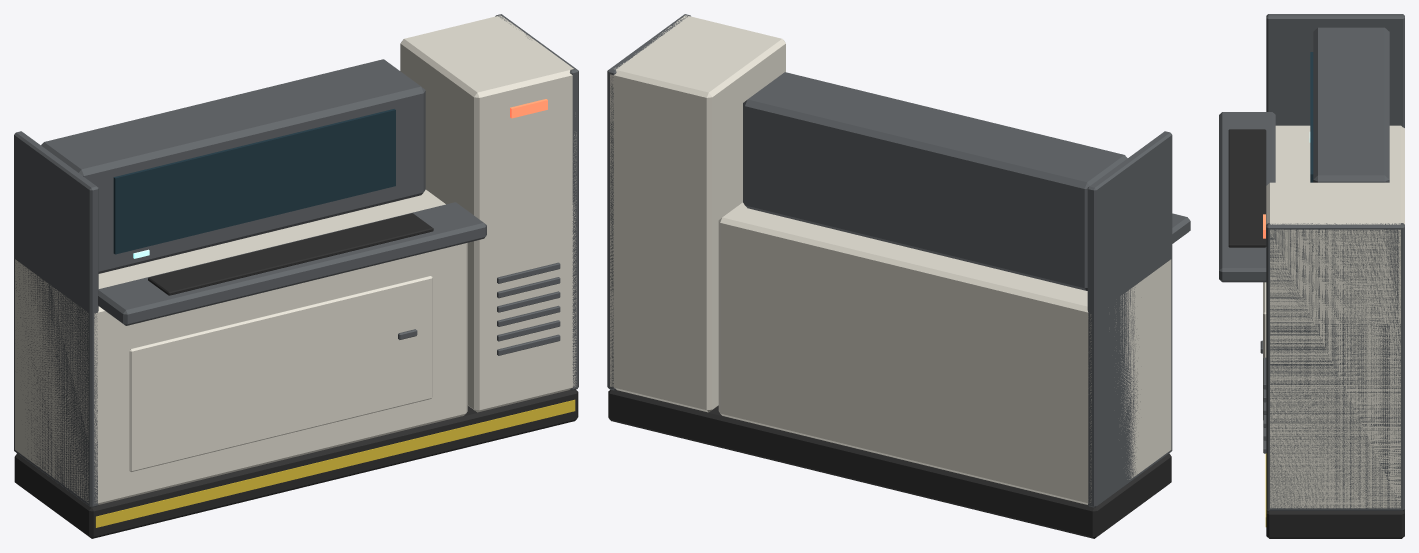
The model's file is console_1600.glb.
3 renders of one model, left to right at view 1: azimuth 30°, elevation 25°; view 2: azimuth 150°, elevation 25°; view 3: azimuth 270°, elevation 25°, orthographic. The views are drawn at different scales.
Visible parts, largest first — view 1: console_1600; view 2: console_1600; view 3: console_1600.
Boxes of the visible parts, x1=… form: console_1600: x1=14, y1=14, x2=578, y2=538; console_1600: x1=607, y1=14, x2=1190, y2=538; console_1600: x1=1219, y1=14, x2=1404, y2=538.
Size of the model in its own units: 1.6 by 1.1 by 0.59.
